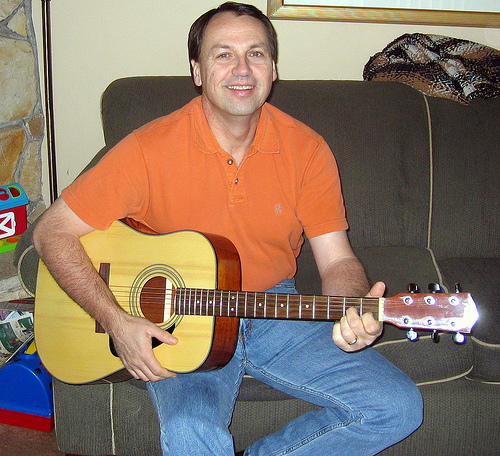guitar: (30, 216, 481, 387)
